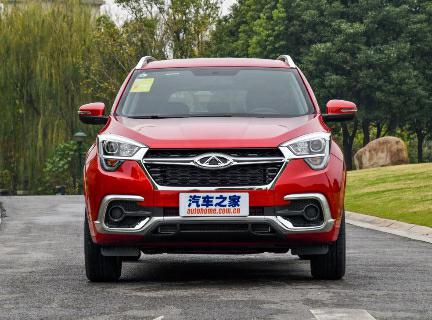奇瑞-瑞虎5x: (71, 52, 360, 287)
